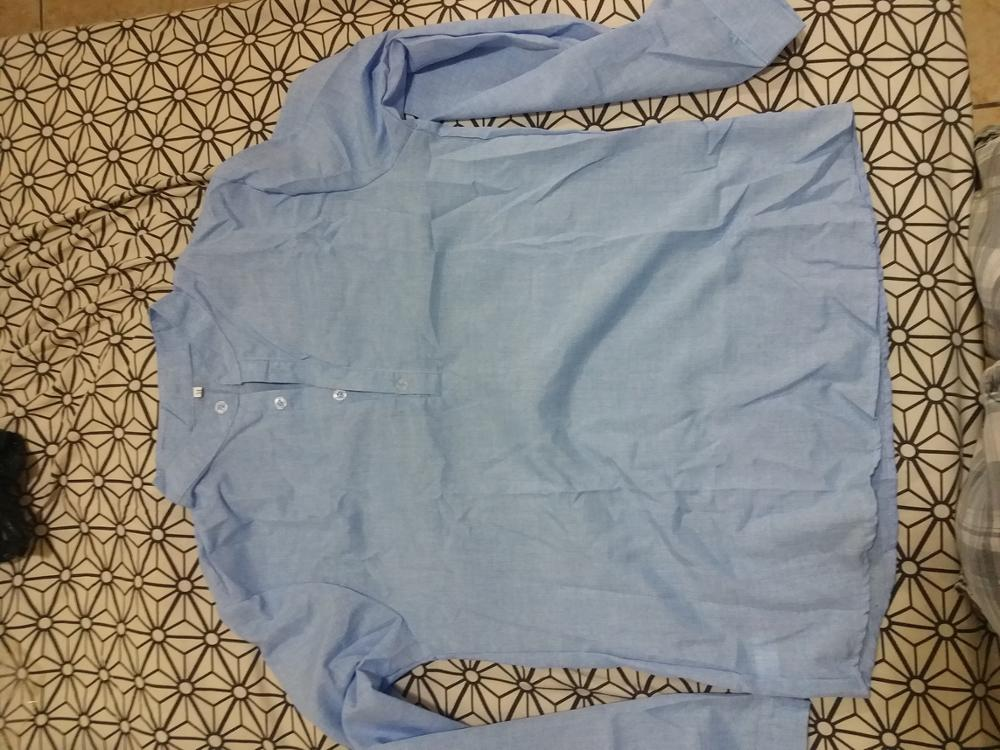shirts: (143, 26, 894, 750)
